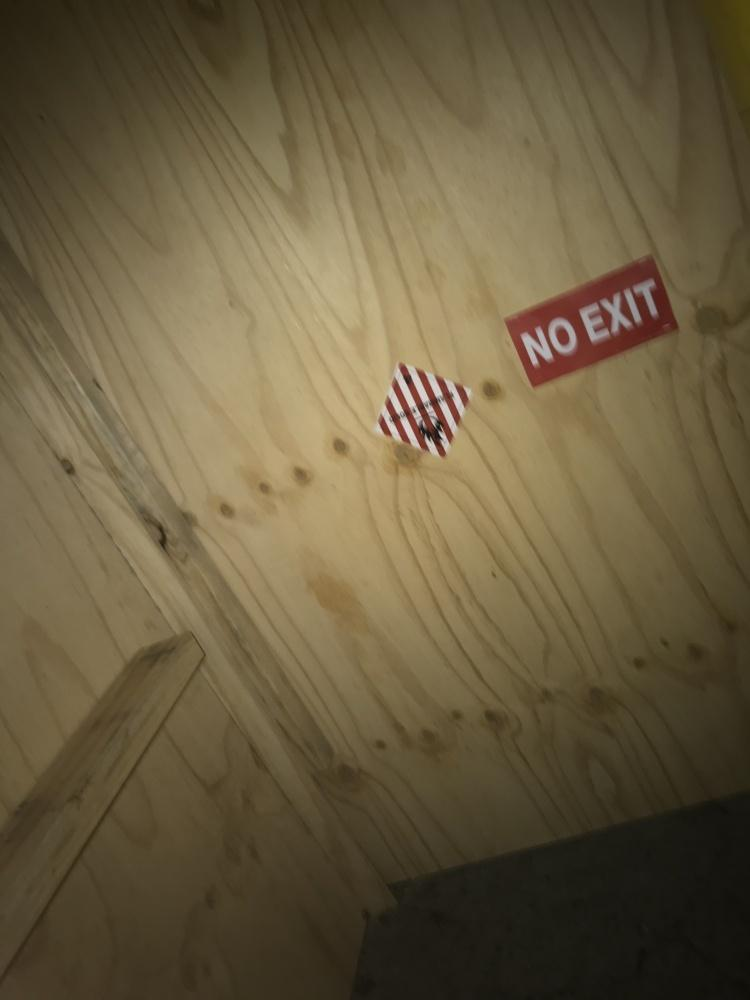flammable-solid: (372, 361, 473, 458)
